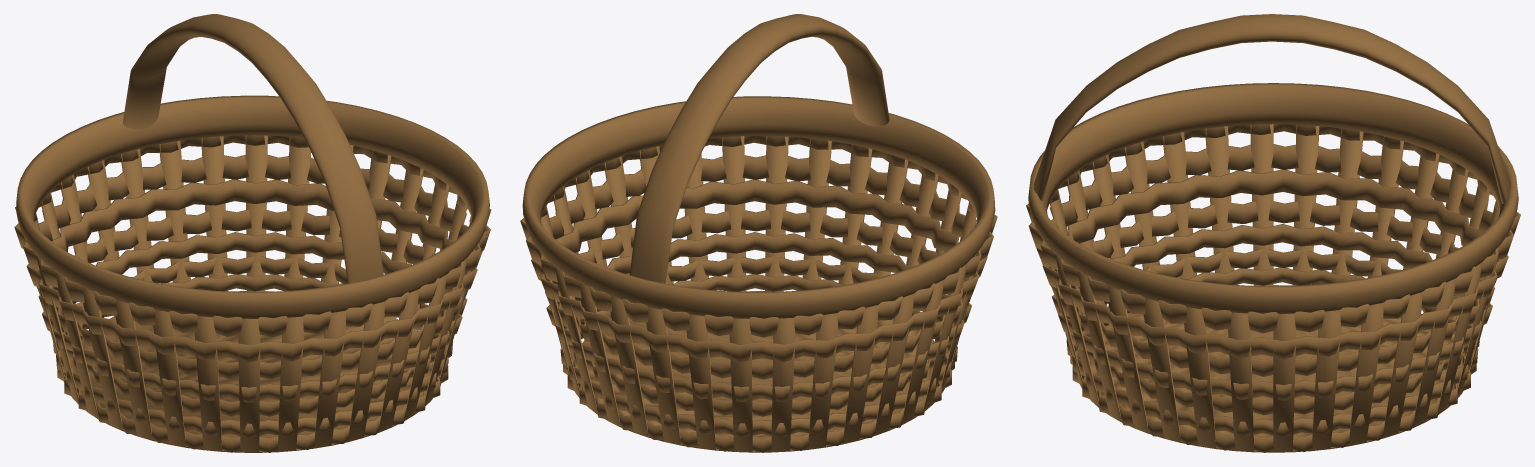
The model's file is cesta.fbx.
3 views of the same model, side by side, from view 1: azimuth 30°, elevation 25°; view 2: azimuth 150°, elevation 25°; view 3: azimuth 270°, elevation 25° (orthographic). The views are drawn at different scales.
Parts seen in each view (by area): view 1: Cesta; view 2: Cesta; view 3: Cesta.
Part boxes in pixels (x1,y1,x2,y2): Cesta: (14, 14, 491, 452); Cesta: (520, 14, 997, 452); Cesta: (1026, 14, 1520, 452).
Bounding box in the file's own units: 92.76 × 72.83 × 92.76.
